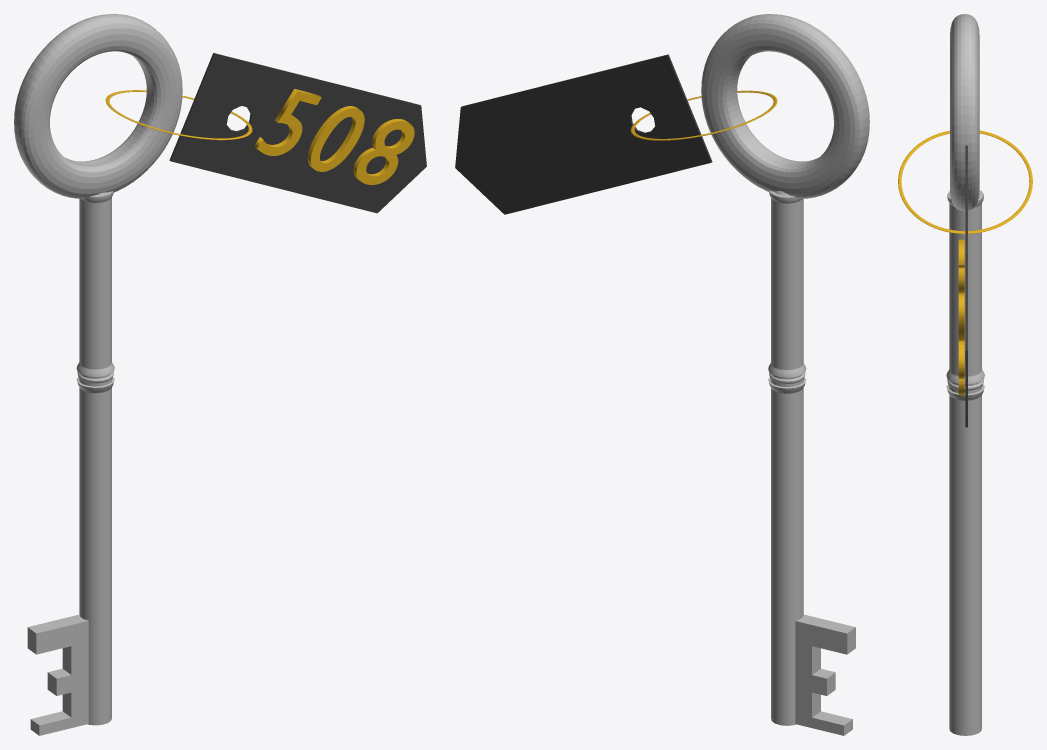
Rendered from key508.fbx.
The picture shows the model from 3 angles, left to right: view 1: azimuth 30°, elevation 25°; view 2: azimuth 150°, elevation 25°; view 3: azimuth 270°, elevation 25°; orthographic projection.
Visible parts, largest first — view 1: key508; view 2: key508; view 3: key508.
Boxes of the visible parts, <box> form: key508: <box>14,14,426,735</box>; key508: <box>455,14,869,735</box>; key508: <box>898,14,1032,735</box>.
Bounding box in the file's own units: 8.68 × 14.18 × 2.45.
